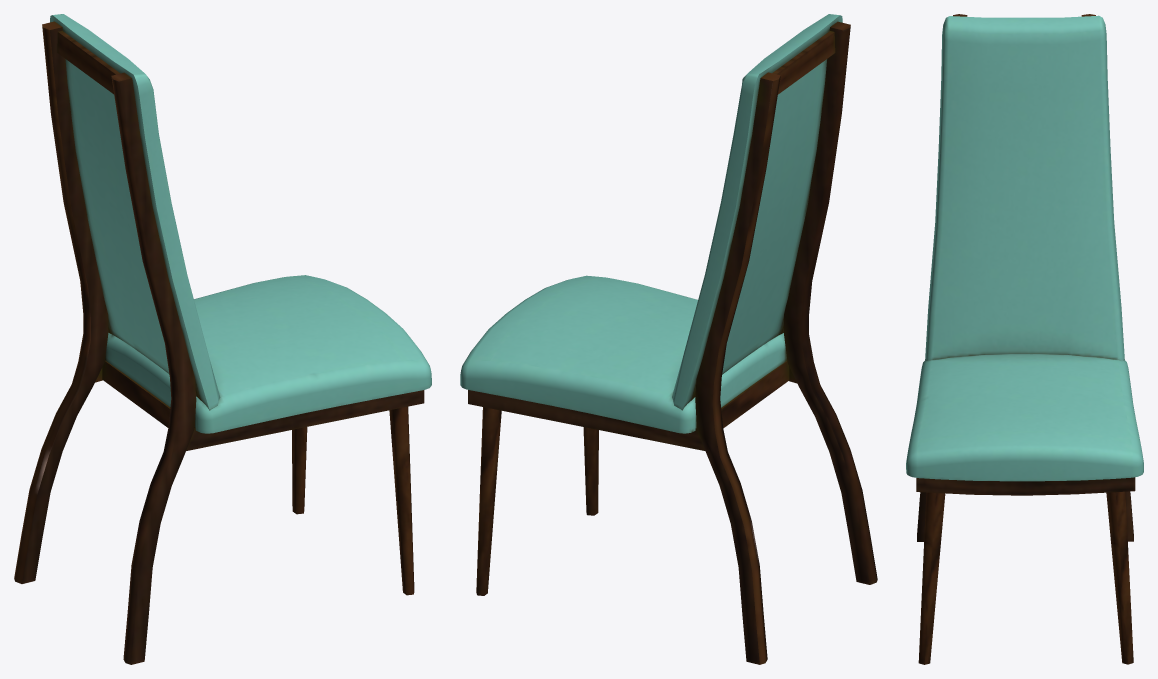
Rendered from dinningchairA.gltf.
The picture shows the model from 3 angles, left to right: view 1: azimuth 30°, elevation 25°; view 2: azimuth 150°, elevation 25°; view 3: azimuth 270°, elevation 25°; orthographic projection. The views are drawn at different scales.
Visible parts, largest first — view 1: defaultMaterial.002; view 2: defaultMaterial.002; view 3: defaultMaterial.002.
Boxes of the visible parts, x1,y1,x2,y2 form: defaultMaterial.002: (14,14,431,664); defaultMaterial.002: (460,14,877,664); defaultMaterial.002: (906,14,1143,664).
Size of the model in its own units: 0.6998 by 1.23 by 0.5025.
Materials: 1 (1 with a texture image).
